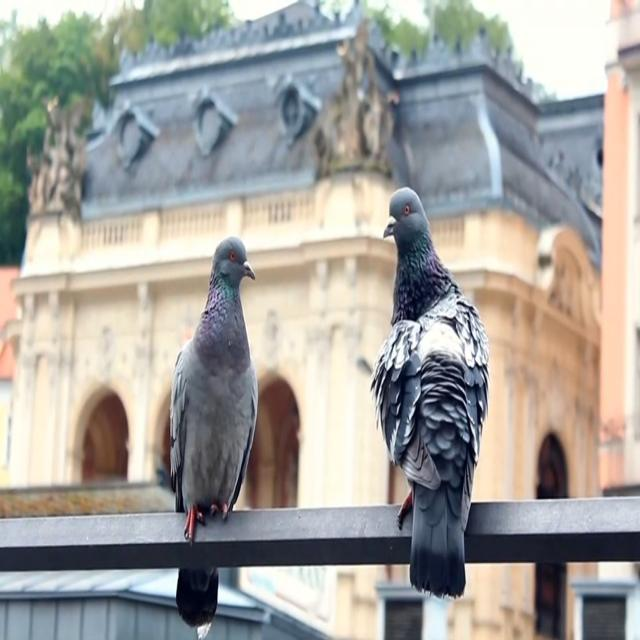bird: (353, 163, 492, 625), (128, 216, 279, 640)
